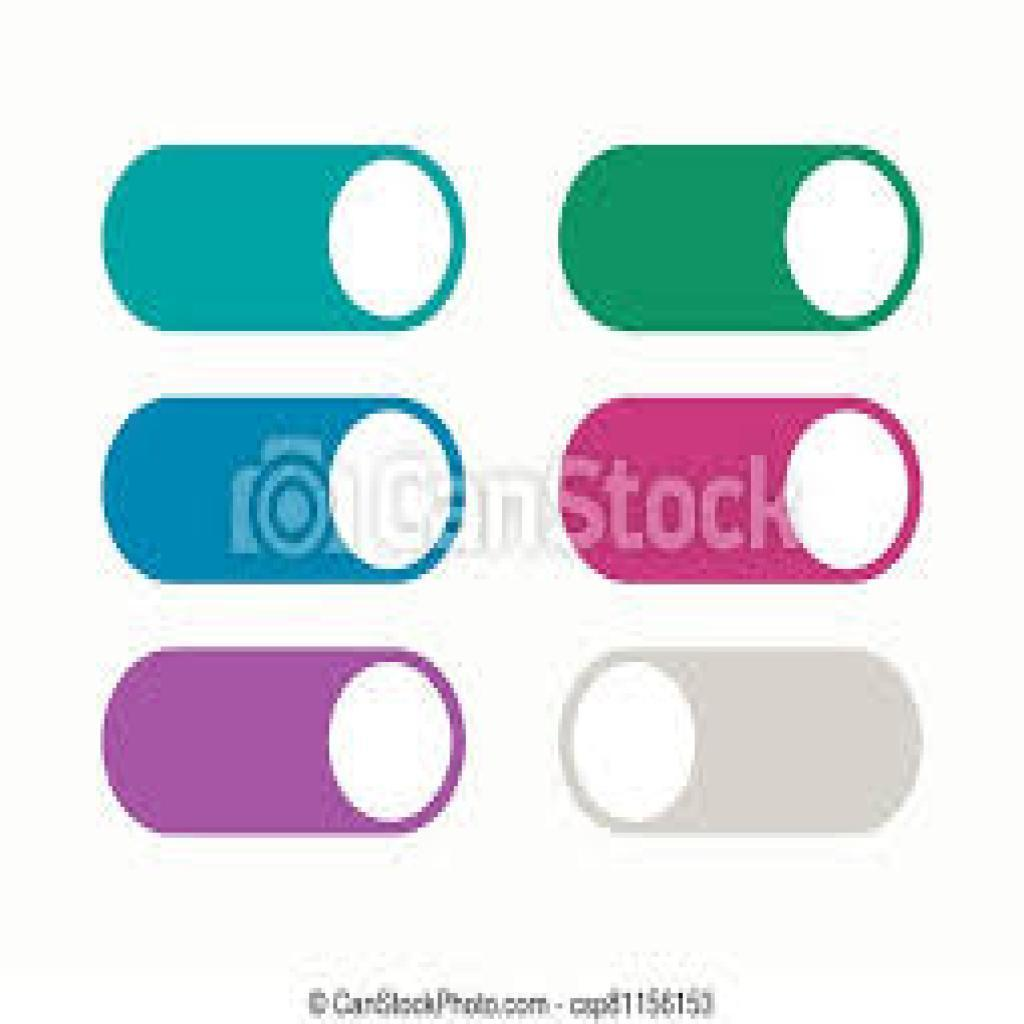switch: (101, 143, 470, 338), (555, 648, 927, 836), (103, 650, 466, 838), (560, 397, 926, 582), (562, 146, 921, 334), (106, 400, 466, 587)
